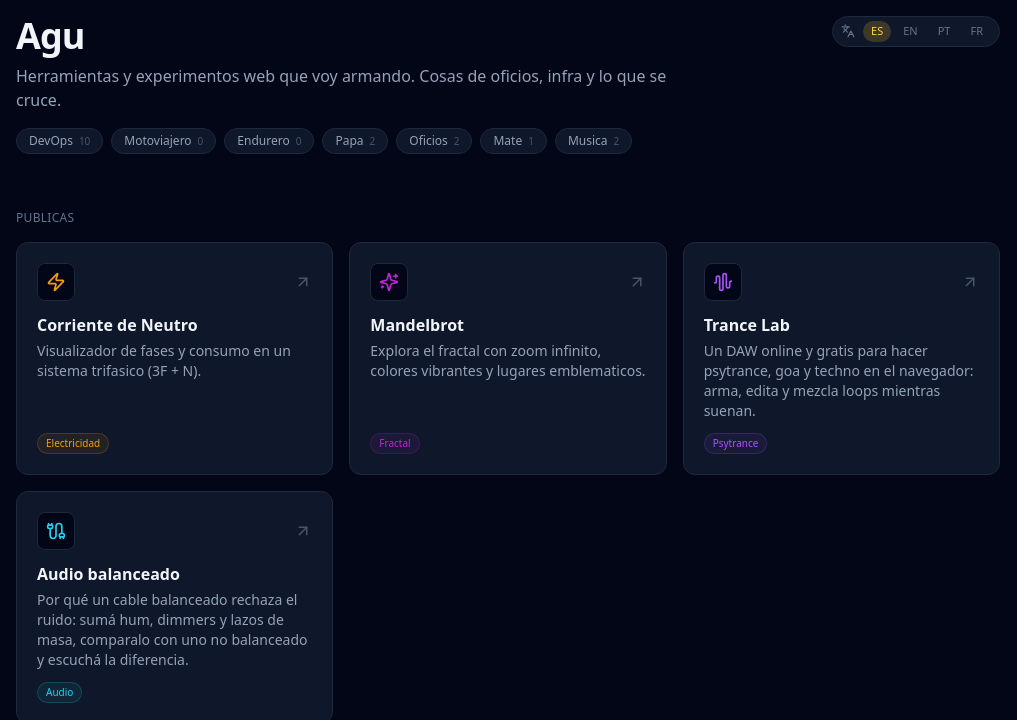
Test: Landing › filtra las apps al hacer clic en una categoría
This screenshot has width=1017, height=720.
Step 1. Click the button "Mate1" → click(514, 141), box [480,128,547,154]
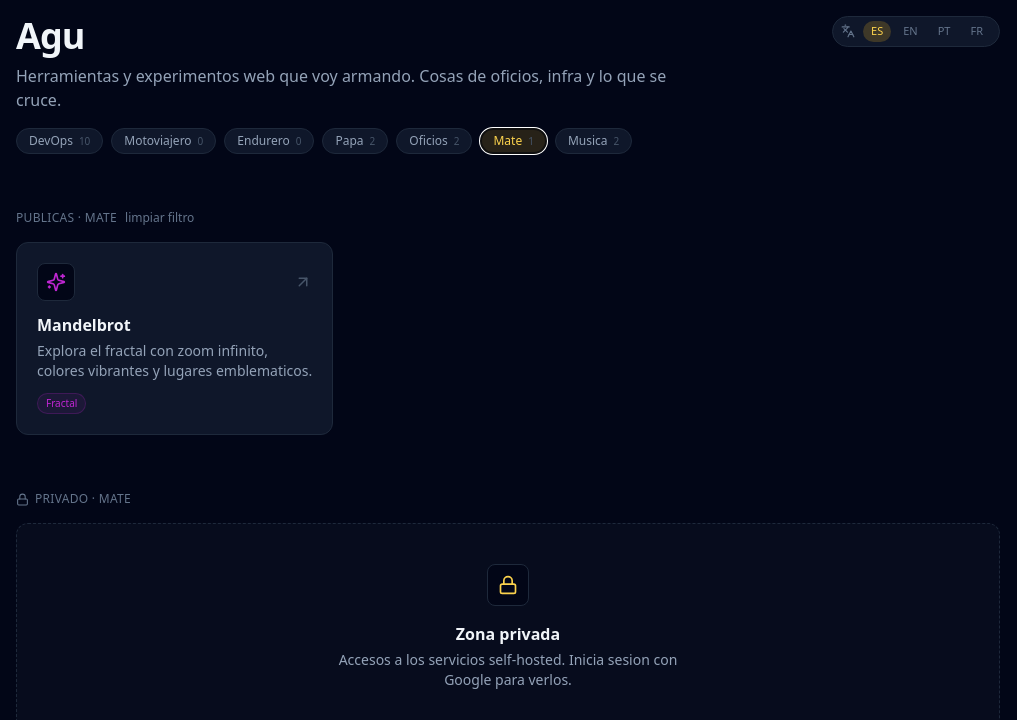
Expected: the heading "Mandelbrot" is shown, [37,314,131,336]
Expected: the link "Corriente de Neutro" is gone
